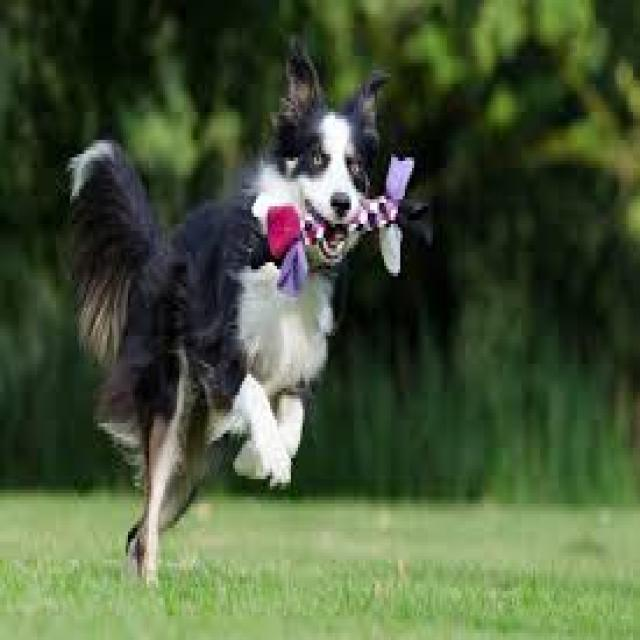BORDER_COLLIE: (59, 29, 431, 594)
